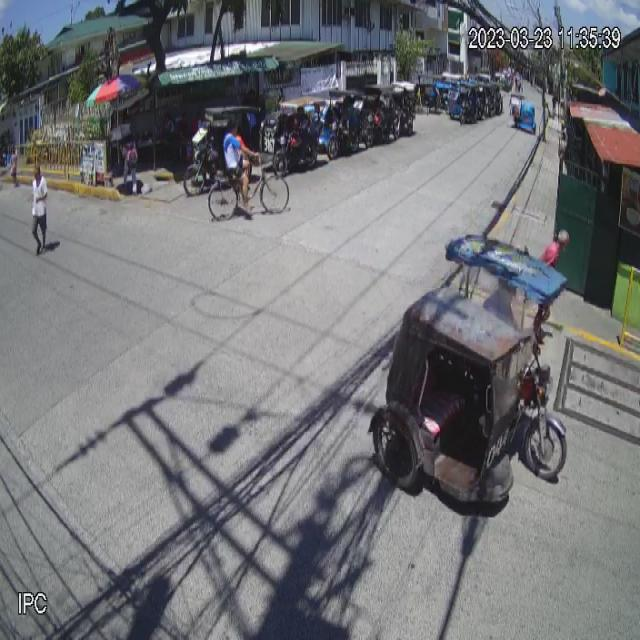Tricycle: (368, 231, 567, 518)
